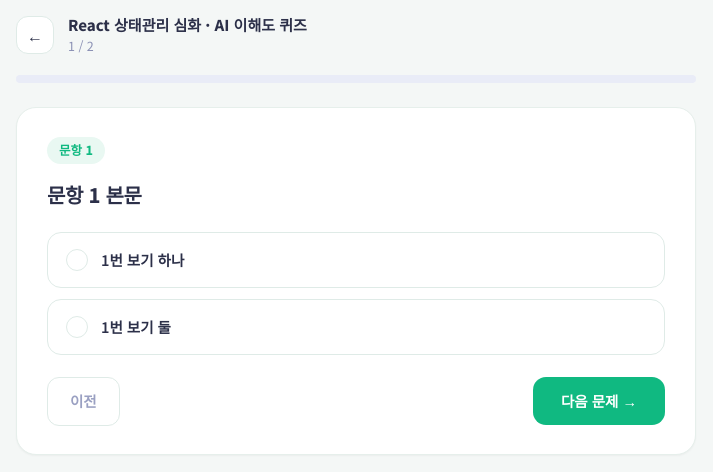
Test: QuizScreen › 모든 문항을 채우기 전에는 제출할 수 없다
What coordinates should you click on to do the following:
click the button "다음 문제 →"
I would click on:
 (599, 401)
Its box is left=533, top=377, right=665, bottom=425.
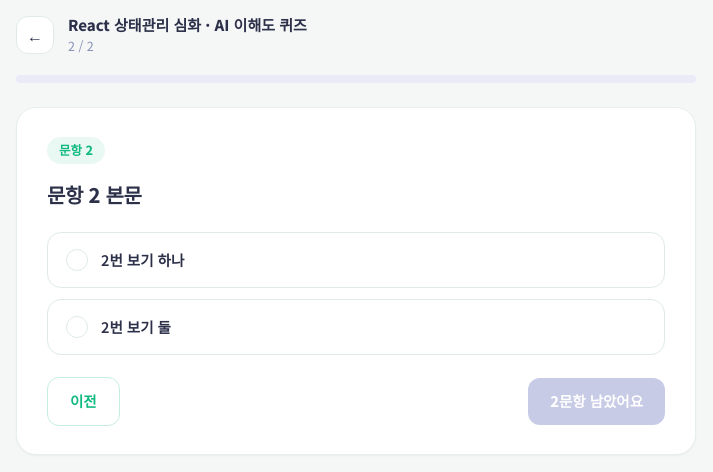
Expected: the button "2문항 남았어요" is disabled, left=528, top=378, right=665, bottom=425
